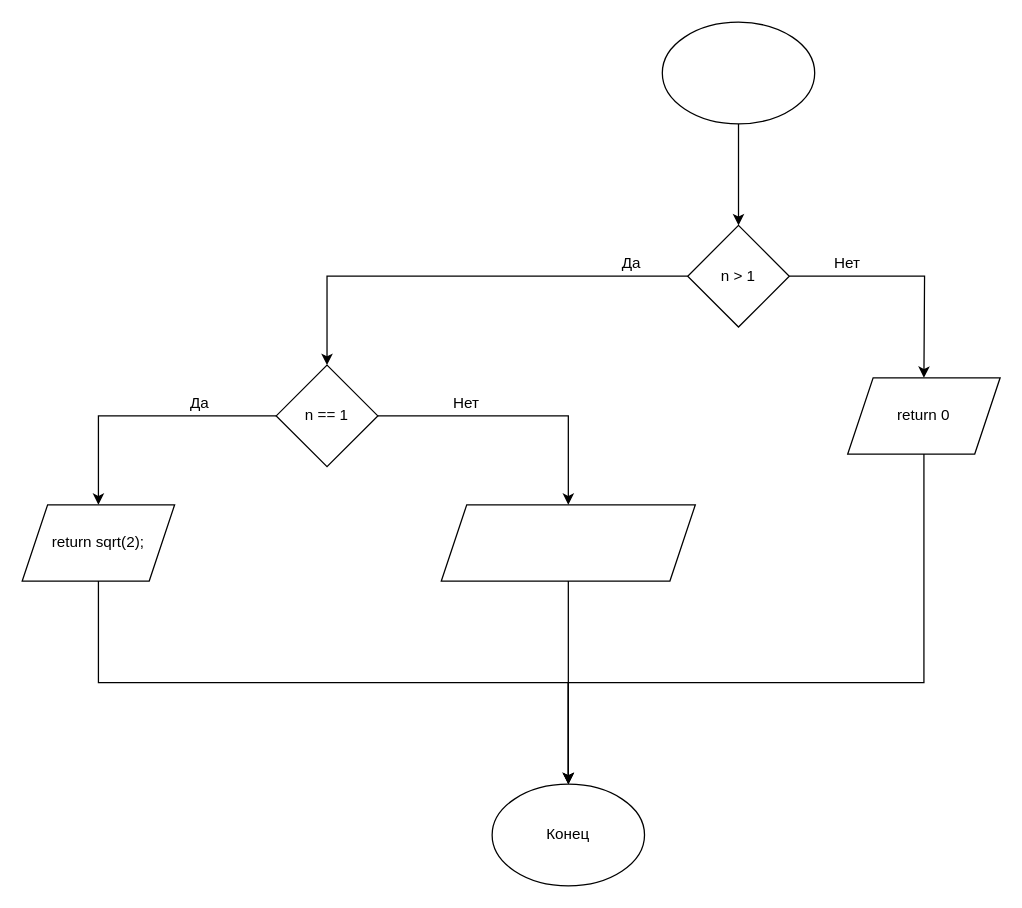
This 1022x908 diagram has some shape labels left out. Here are the shapes that lost their labels. From the top down, the centre of each, then its label:
the point at 738,72: Начало y(n)
the point at 567,542: return sqrt(2 * n + y(n - 1))
